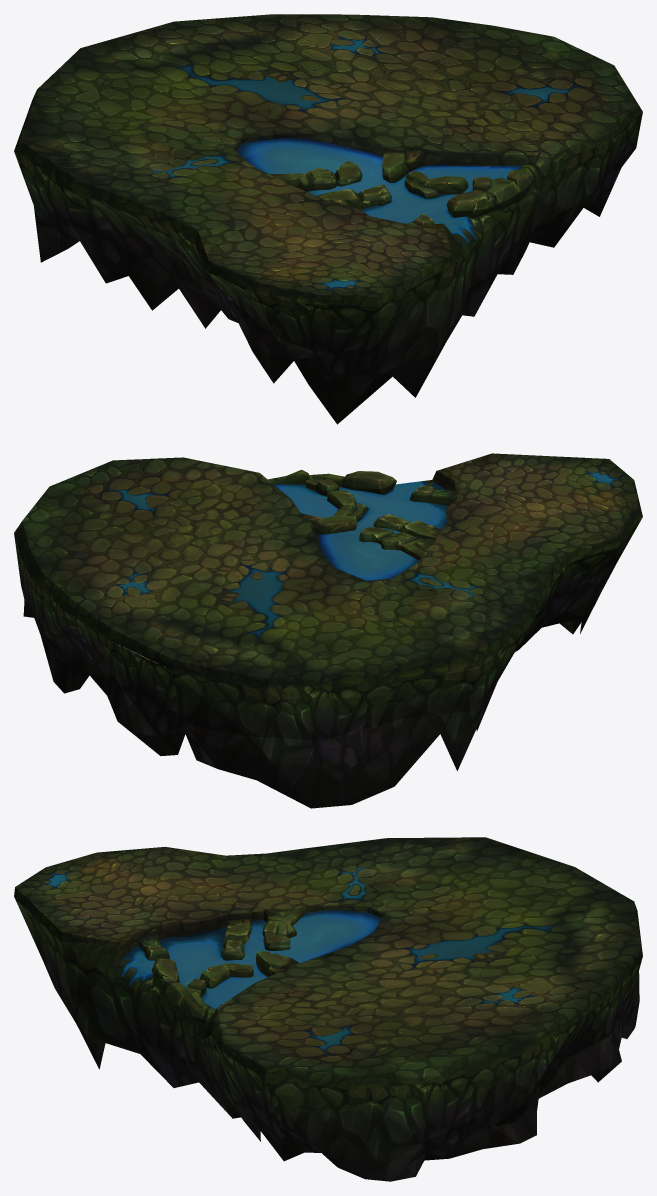
File: Swamp_dizuo03.FBX
3 views of the same model, one above another, from view 1: azimuth 30°, elevation 25°; view 2: azimuth 150°, elevation 25°; view 3: azimuth 270°, elevation 25° (orthographic). The views are drawn at different scales.
Parts seen in each view (by area): view 1: dimian03; view 2: dimian03; view 3: dimian03.
Boxes of the visible parts, bbox=[...] form: dimian03: bbox=[14, 14, 642, 424]; dimian03: bbox=[14, 453, 642, 808]; dimian03: bbox=[14, 837, 642, 1181].
Size of the model in its own units: 1458 by 412 by 1584.
